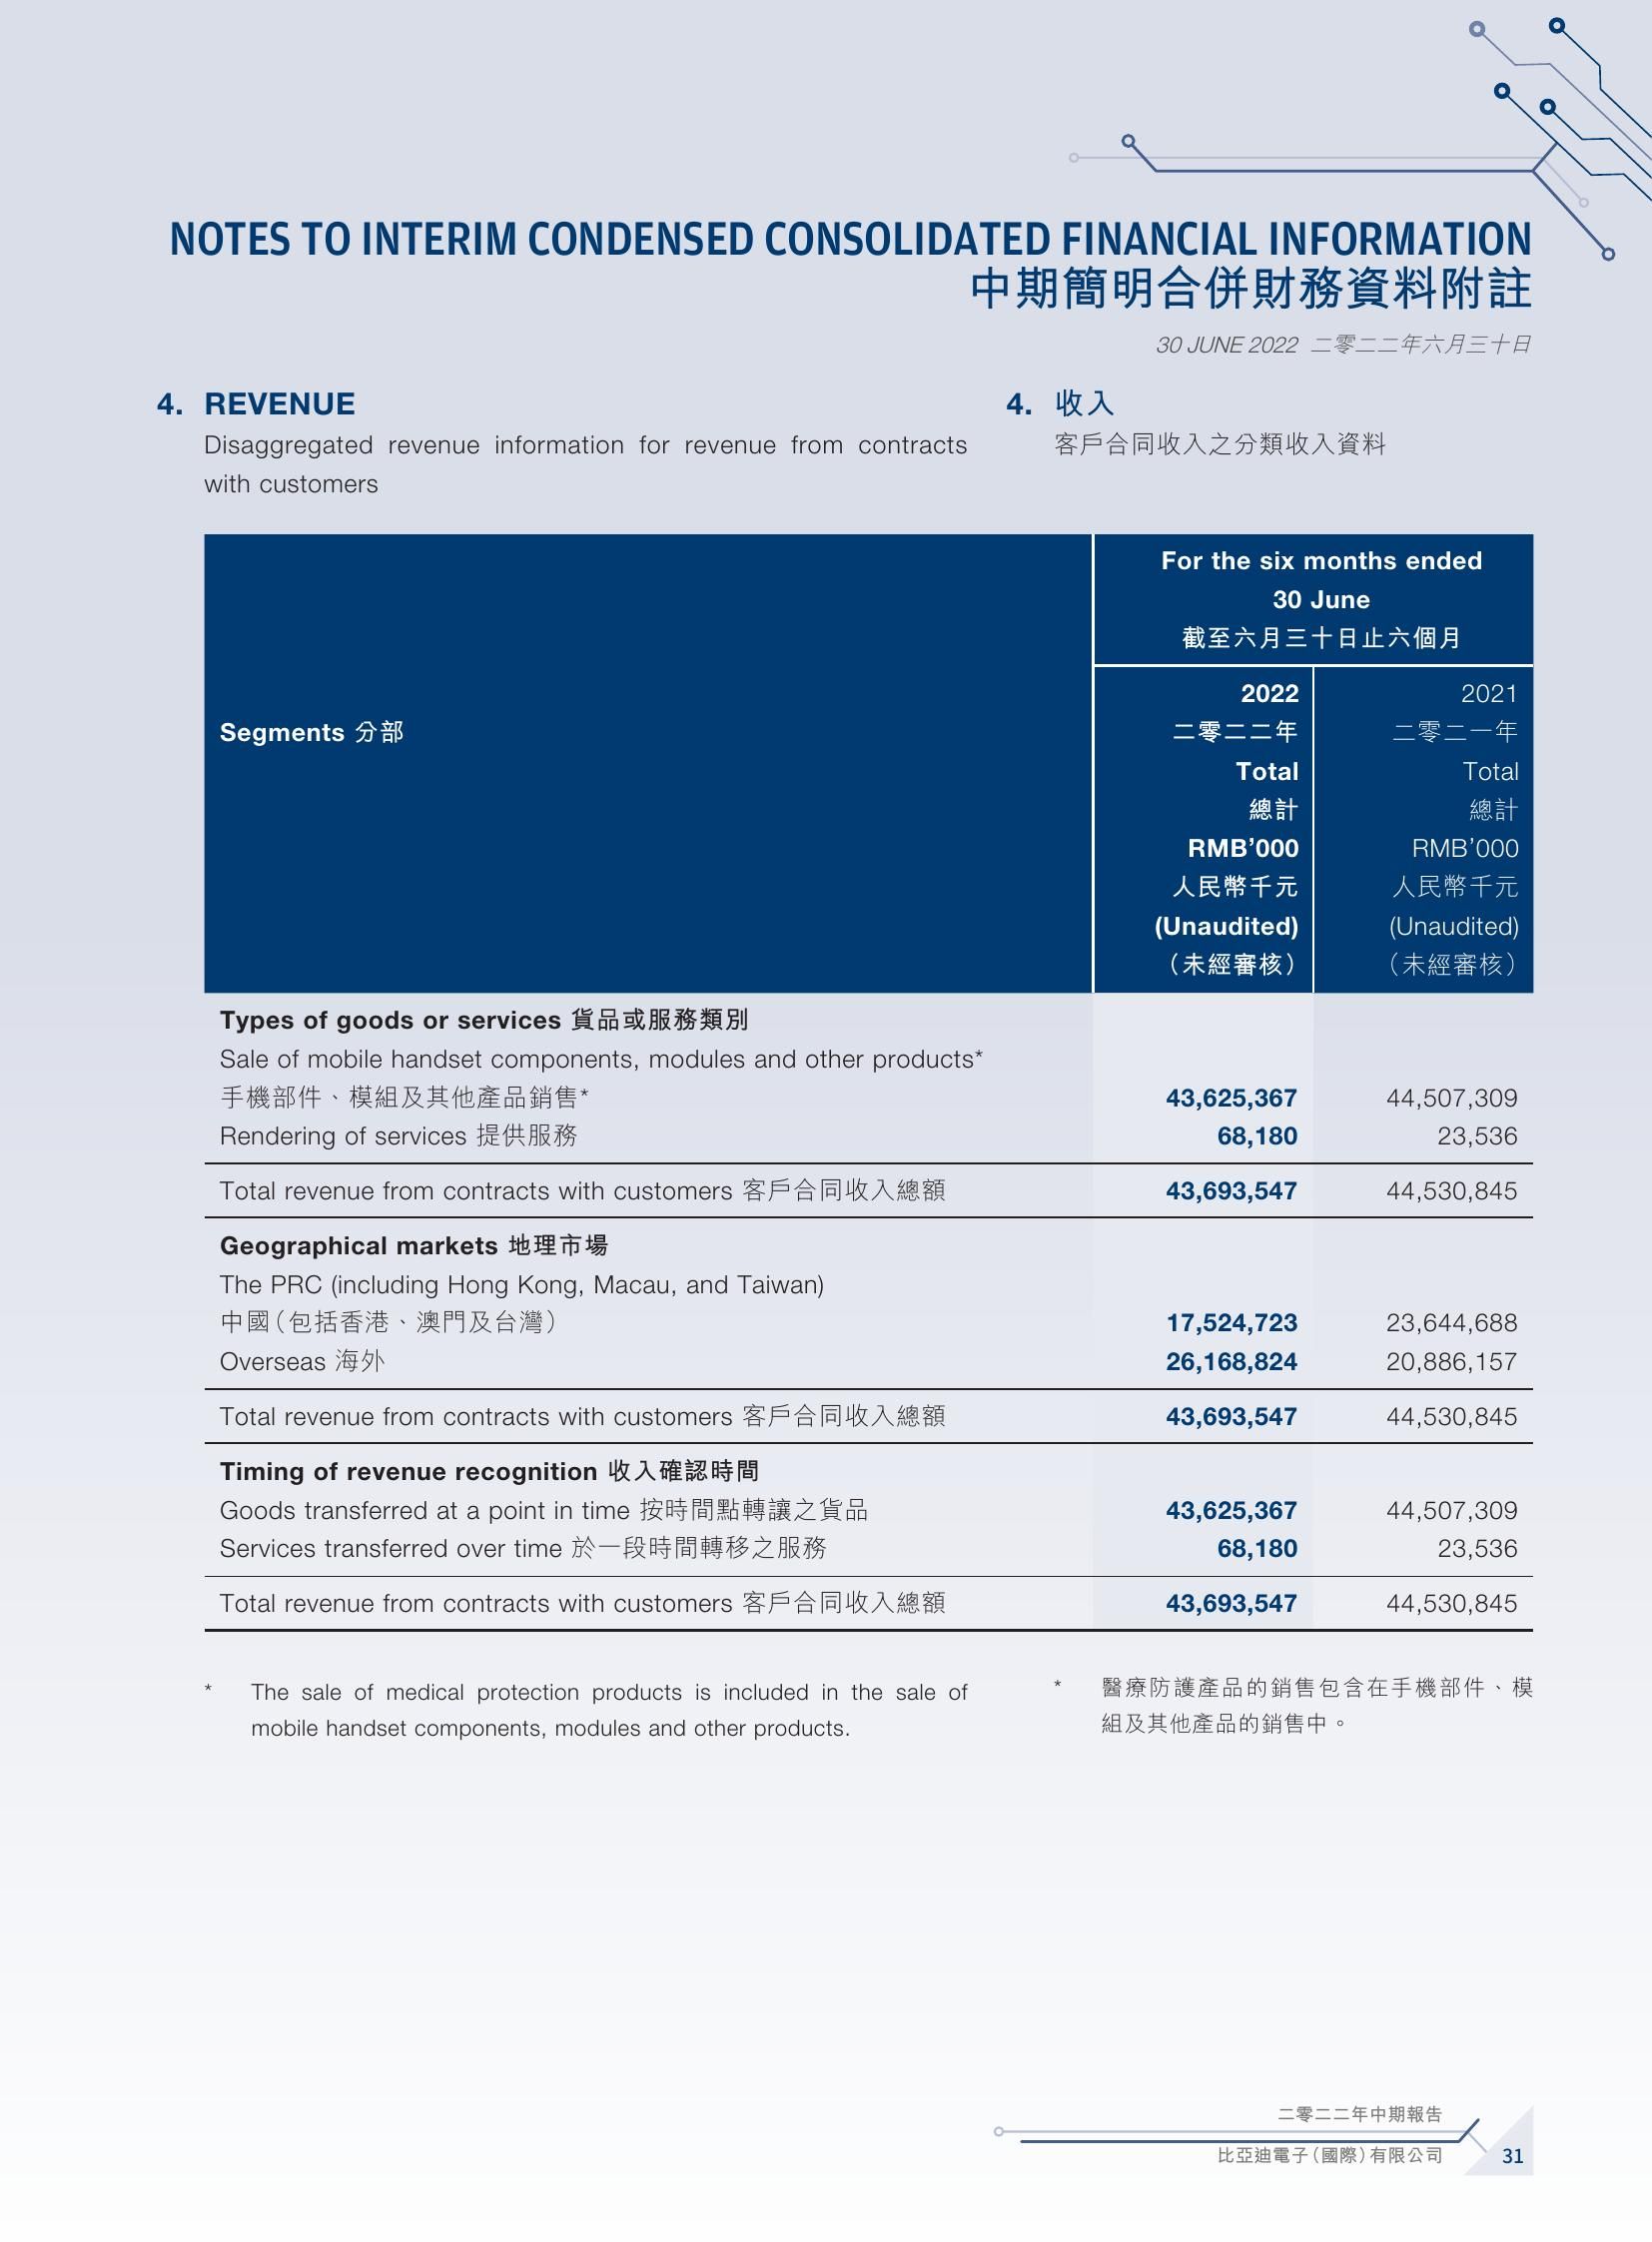Footer: (0, 2089, 1652, 2242)
Header: (0, 0, 1652, 188)
Table: (171, 515, 1556, 1661)
